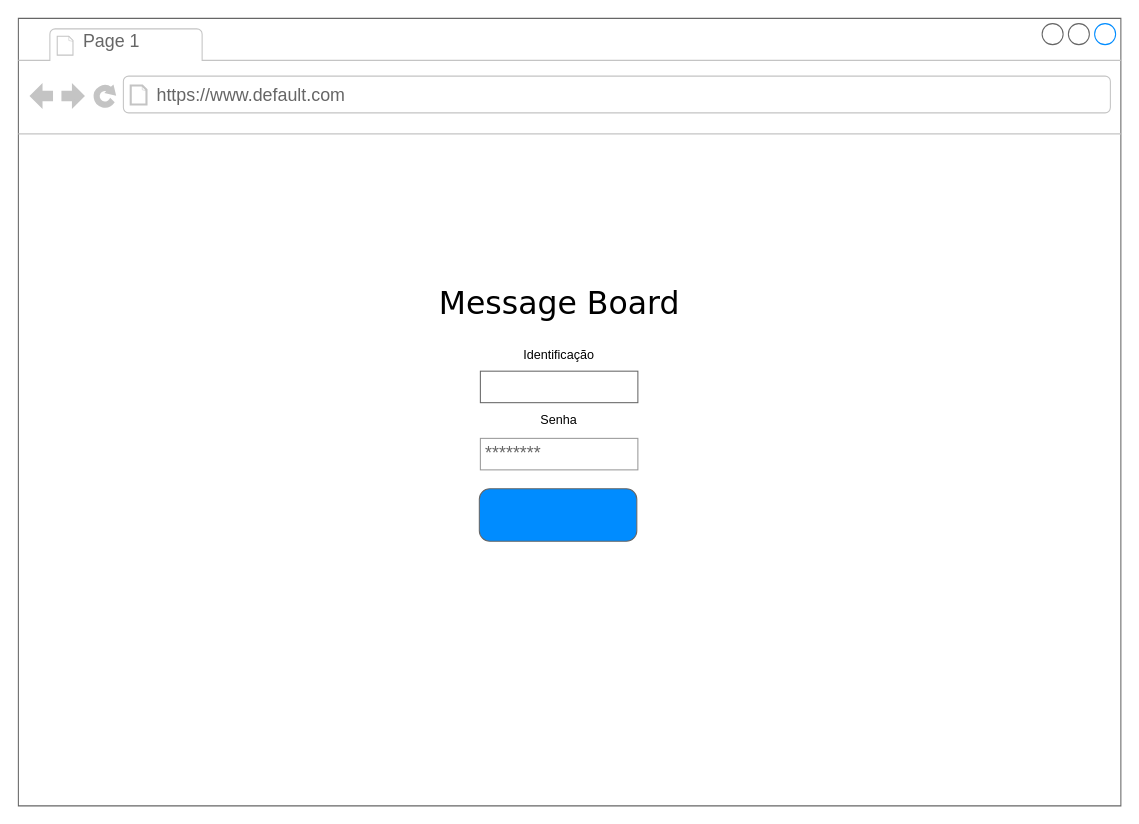
This 1139x824 diagram has some shape labels left out. Here are the shapes that lost their labels. From the top down, the centre of each, then its label:
At point 558,386: "Usuário ou E-mail".
At point 557,514: "Entrar".
